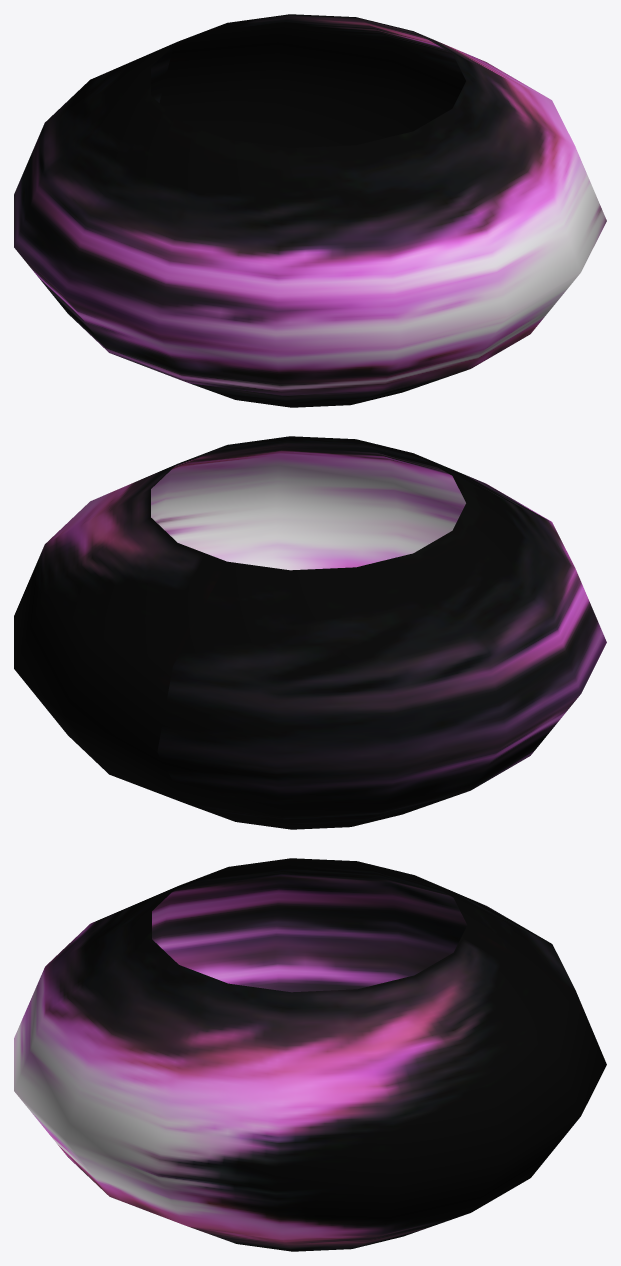
The model's file is fx_fbx_skill_102_fan_powerattack_1.FBX.
3 renders of one model, top to bottom at view 1: azimuth 30°, elevation 25°; view 2: azimuth 150°, elevation 25°; view 3: azimuth 270°, elevation 25°, orthographic.
Visible parts, largest first — view 1: Sphere001; view 2: Sphere001; view 3: Sphere001.
Part boxes in pixels (x1,y1,x2,y2): Sphere001: (14,14,606,407); Sphere001: (14,436,606,829); Sphere001: (14,858,606,1251).
Size of the model in its own units: 65.48 by 65.12 by 32.29.
1 material, 1 textured.
